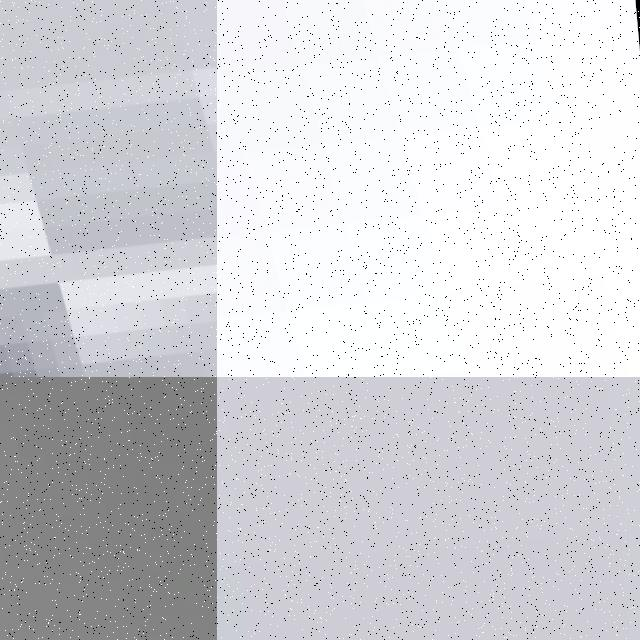0: (0, 0, 217, 377)
drone: (217, 0, 640, 377), (0, 377, 217, 640)
